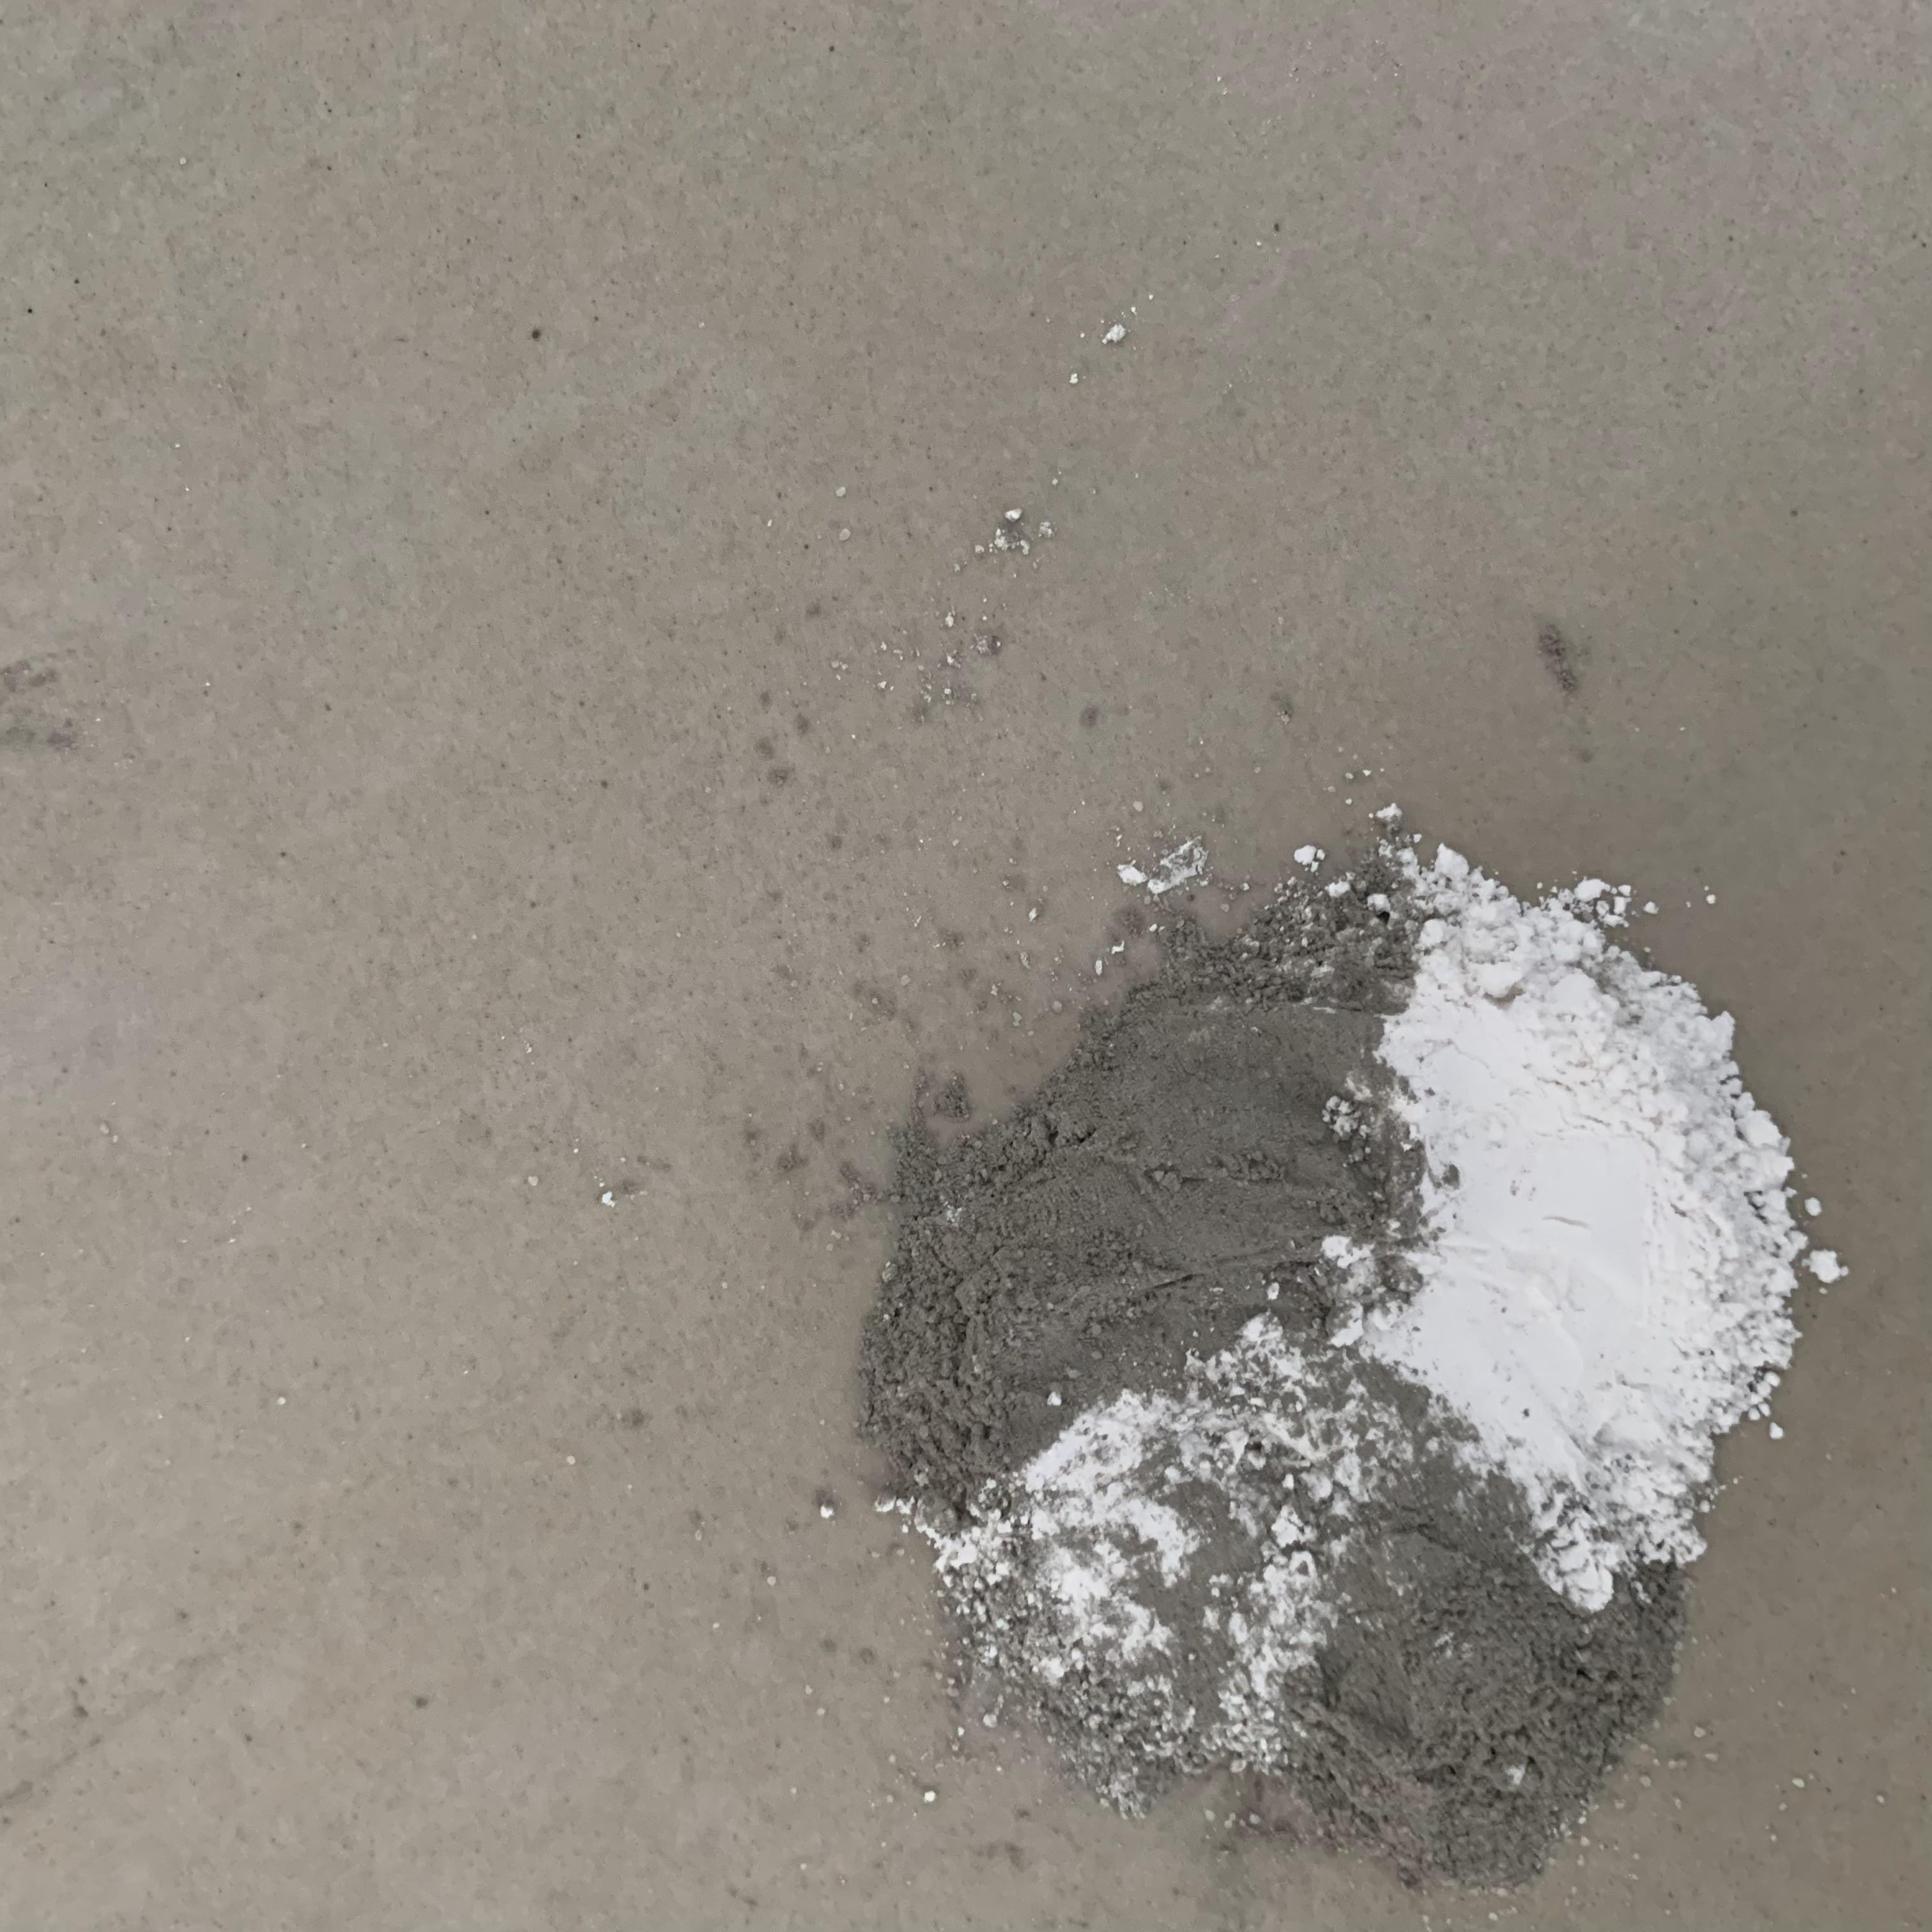ash pile: (766, 803, 1852, 1902)
